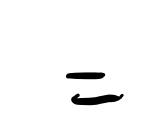eqv: (66, 71, 124, 104)
